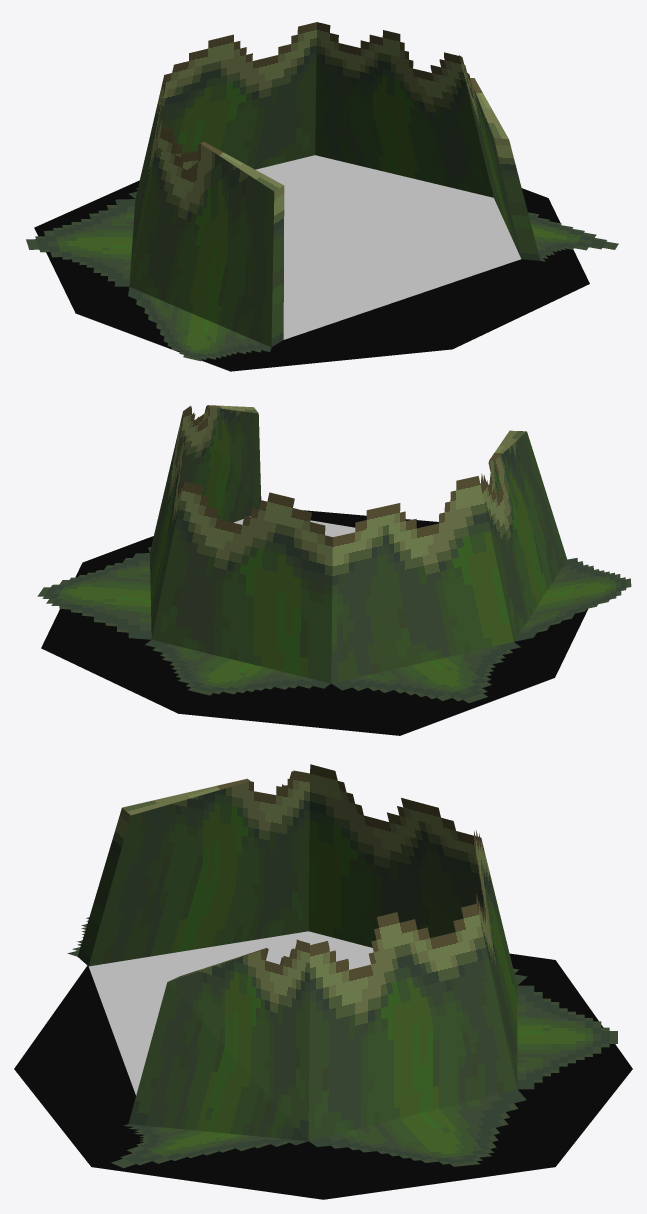
The model's file is stump_2.obj.
3 views of the same model, one above another, from view 1: azimuth 30°, elevation 25°; view 2: azimuth 150°, elevation 25°; view 3: azimuth 270°, elevation 25° (orthographic). The views are drawn at different scales.
Size of the model in its own units: 54 by 18 by 48.
